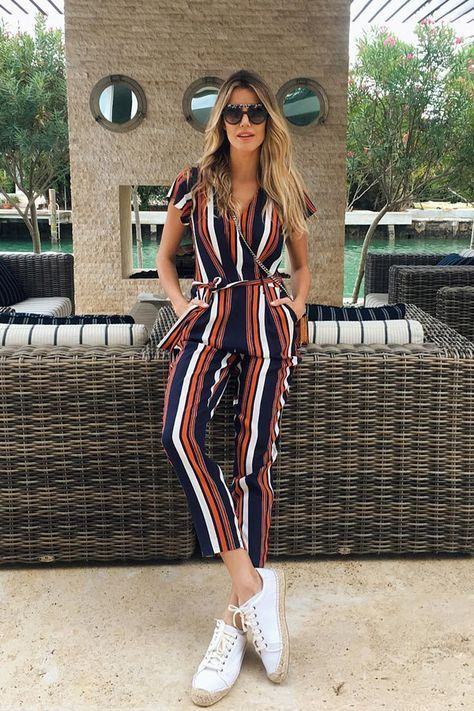striped: (155, 159, 328, 566)
